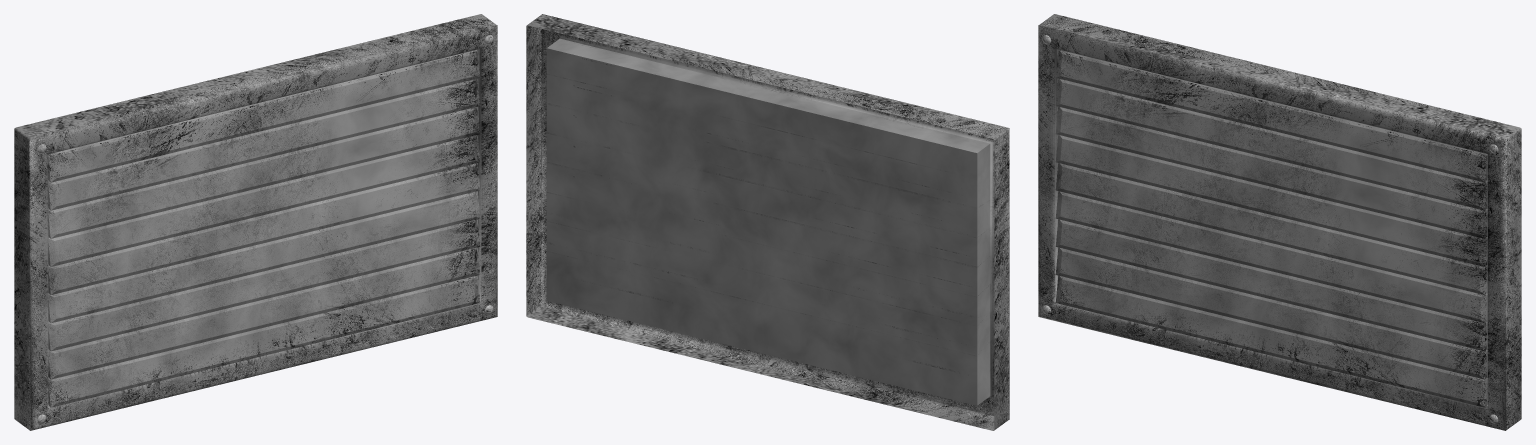
File: Air Vent.fbx
The picture shows the model from 3 angles, left to right: view 1: azimuth 30°, elevation 25°; view 2: azimuth 150°, elevation 25°; view 3: azimuth 330°, elevation 25°; orthographic projection.
Visible parts, largest first — view 1: Metal Vent; view 2: Metal Vent; view 3: Metal Vent.
Boxes of the visible parts, bbox=[...] form: Metal Vent: bbox=[14, 14, 497, 430]; Metal Vent: bbox=[526, 14, 1009, 430]; Metal Vent: bbox=[1038, 14, 1521, 430].
Size of the model in its own units: 336 by 200 by 22.87.
1 material, 1 textured.
